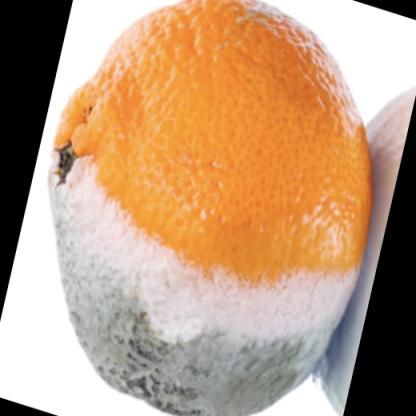rotten: (48, 2, 373, 416)
